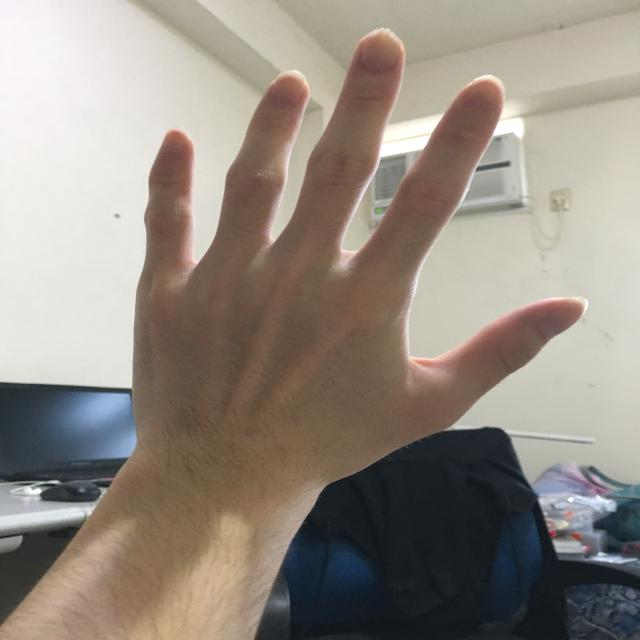no_glove: (100, 12, 606, 540)
